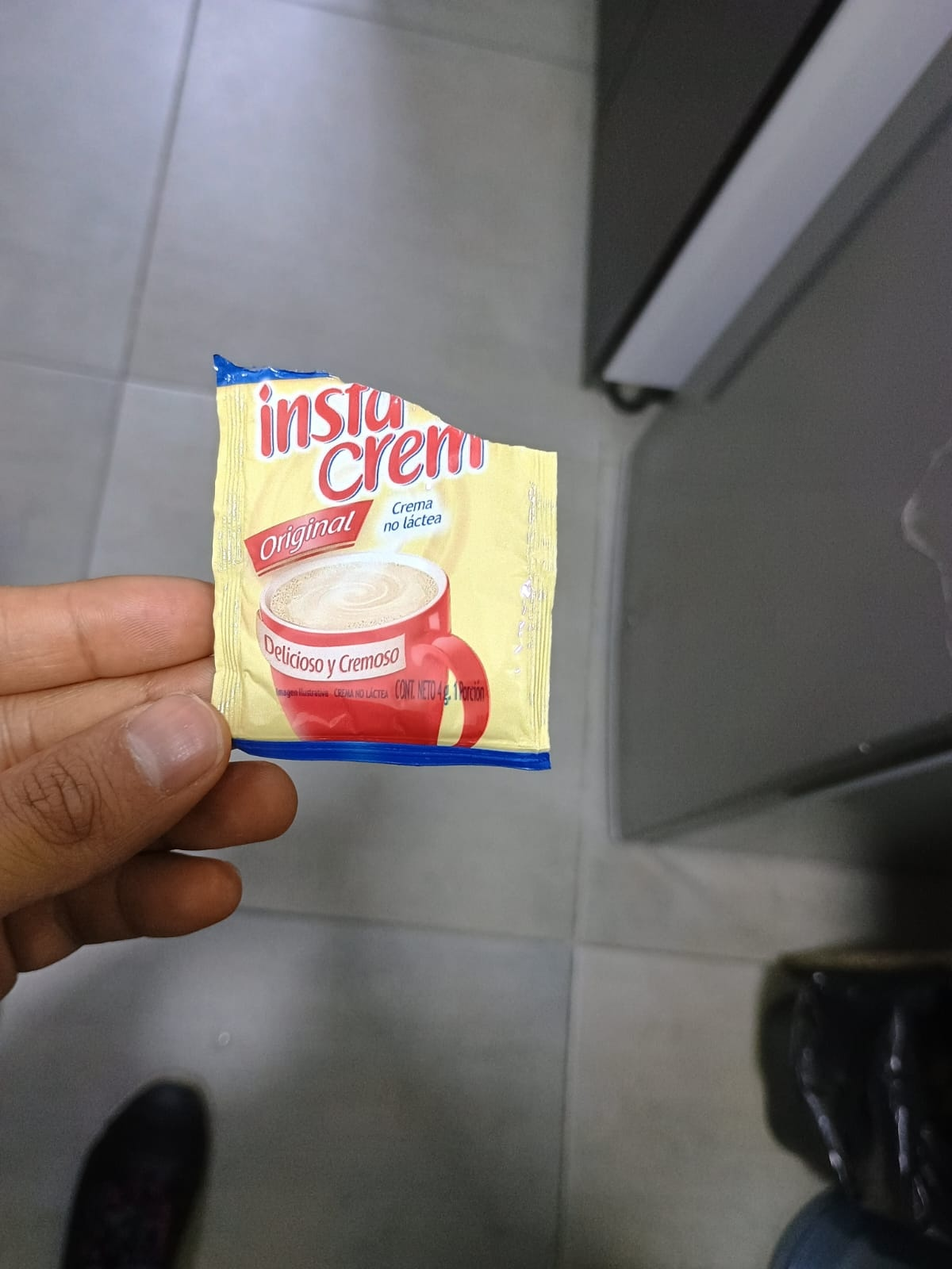Ordinario: (209, 354, 558, 770)
